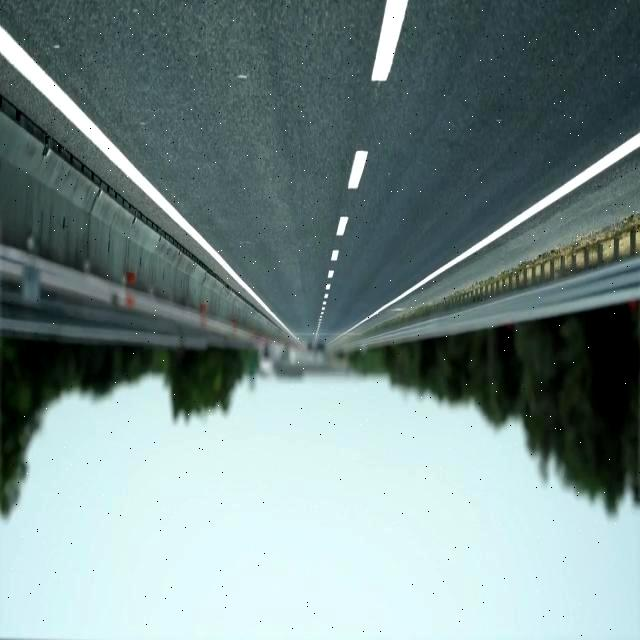lane: (0, 27, 297, 340), (342, 131, 640, 334), (372, 0, 409, 81), (348, 151, 368, 190), (338, 217, 346, 235)
road: (0, 1, 639, 342), (0, 58, 243, 293), (393, 151, 639, 309)
